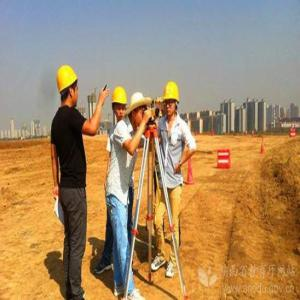white: (131, 94, 147, 129)
yellow: (58, 66, 81, 110), (111, 87, 129, 123), (164, 82, 181, 119)
